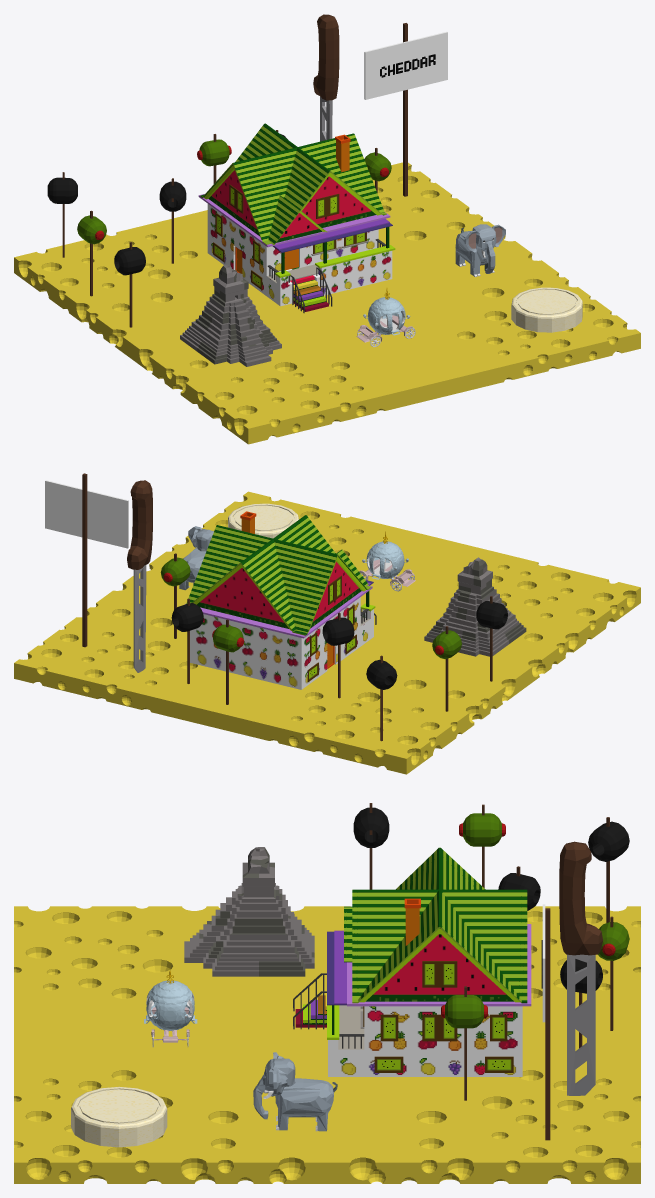
3 views of the same model, one above another, from view 1: azimuth 30°, elevation 25°; view 2: azimuth 150°, elevation 25°; view 3: azimuth 270°, elevation 25° (orthographic). The views are drawn at different scales.
Parts seen in each view (by area): view 1: Cube.022, Cube.1063, OBJRANDOM_GRAN_JAGUAR, Cube.023, Cylinder.016, Cube.024, ANIMAL_ELEFANTE, VEHICLES_FANTASY_CARRIAGE, Sphere.017, Sphere.016, Sphere.020, Sphere.018 (+2 smaller); view 2: Cube.022, Cube.1063, Cube.023, OBJRANDOM_GRAN_JAGUAR, Cube.024, VEHICLES_FANTASY_CARRIAGE, Cylinder.016, ANIMAL_ELEFANTE, Sphere.017, Sphere.020, Sphere.021, Sphere.016 (+3 smaller); view 3: Cube.022, Cube.1063, OBJRANDOM_GRAN_JAGUAR, Cube.024, Cylinder.016, ANIMAL_ELEFANTE, VEHICLES_FANTASY_CARRIAGE, Cube.023, Sphere.019, Sphere.016, Sphere.018, Sphere.017 (+3 smaller).
Boxes of the visible parts, x1=… form: Cube.022: x1=14, y1=162, x2=640, y2=444; Cube.1063: x1=198, y1=123, x2=395, y2=313; OBJRANDOM_GRAN_JAGUAR: x1=180, y1=264, x2=281, y2=366; Cube.023: x1=364, y1=23, x2=447, y2=196; Cylinder.016: x1=511, y1=287, x2=582, y2=332; Cube.024: x1=313, y1=14, x2=339, y2=141; ANIMAL_ELEFANTE: x1=455, y1=224, x2=505, y2=276; VEHICLES_FANTASY_CARRIAGE: x1=356, y1=288, x2=415, y2=347; Sphere.017: x1=114, y1=242, x2=145, y2=327; Sphere.016: x1=47, y1=172, x2=77, y2=257; Sphere.020: x1=159, y1=178, x2=186, y2=263; Sphere.018: x1=77, y1=210, x2=106, y2=296; Cube.022: x1=14, y1=491, x2=640, y2=774; Cube.1063: x1=185, y1=511, x2=376, y2=689; Cube.023: x1=45, y1=473, x2=128, y2=647; OBJRANDOM_GRAN_JAGUAR: x1=424, y1=557, x2=526, y2=656; Cube.024: x1=127, y1=480, x2=152, y2=672; VEHICLES_FANTASY_CARRIAGE: x1=359, y1=531, x2=415, y2=591; Cylinder.016: x1=228, y1=503, x2=298, y2=538; ANIMAL_ELEFANTE: x1=179, y1=526, x2=213, y2=590; Sphere.017: x1=476, y1=596, x2=507, y2=681; Sphere.020: x1=322, y1=612, x2=354, y2=698; Sphere.021: x1=171, y1=598, x2=203, y2=683; Sphere.016: x1=366, y1=655, x2=397, y2=741; Cube.022: x1=14, y1=906, x2=640, y2=1183; Cube.1063: x1=293, y1=847, x2=531, y2=1076; OBJRANDOM_GRAN_JAGUAR: x1=184, y1=847, x2=314, y2=976; Cube.024: x1=559, y1=841, x2=602, y2=1095; Cylinder.016: x1=71, y1=1086, x2=167, y2=1147; ANIMAL_ELEFANTE: x1=253, y1=1052, x2=337, y2=1131; VEHICLES_FANTASY_CARRIAGE: x1=144, y1=968, x2=197, y2=1047; Cube.023: x1=541, y1=904, x2=550, y2=1140; Sphere.019: x1=441, y1=986, x2=487, y2=1100; Sphere.016: x1=588, y1=817, x2=629, y2=922; Sphere.018: x1=459, y1=804, x2=505, y2=887; Sphere.017: x1=353, y1=803, x2=389, y2=889.
Size of the model in its own units: 3917 by 2159 by 4000.
Materials: 31 (5 with a texture image).
